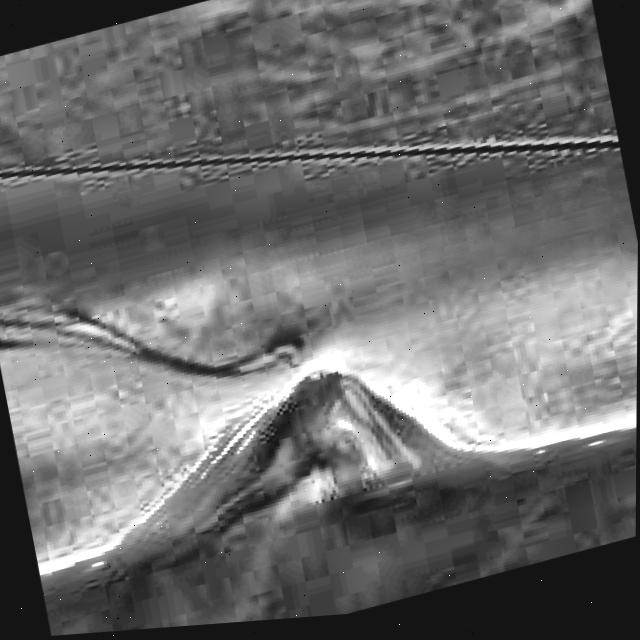door_dent: (95, 349, 437, 585)
